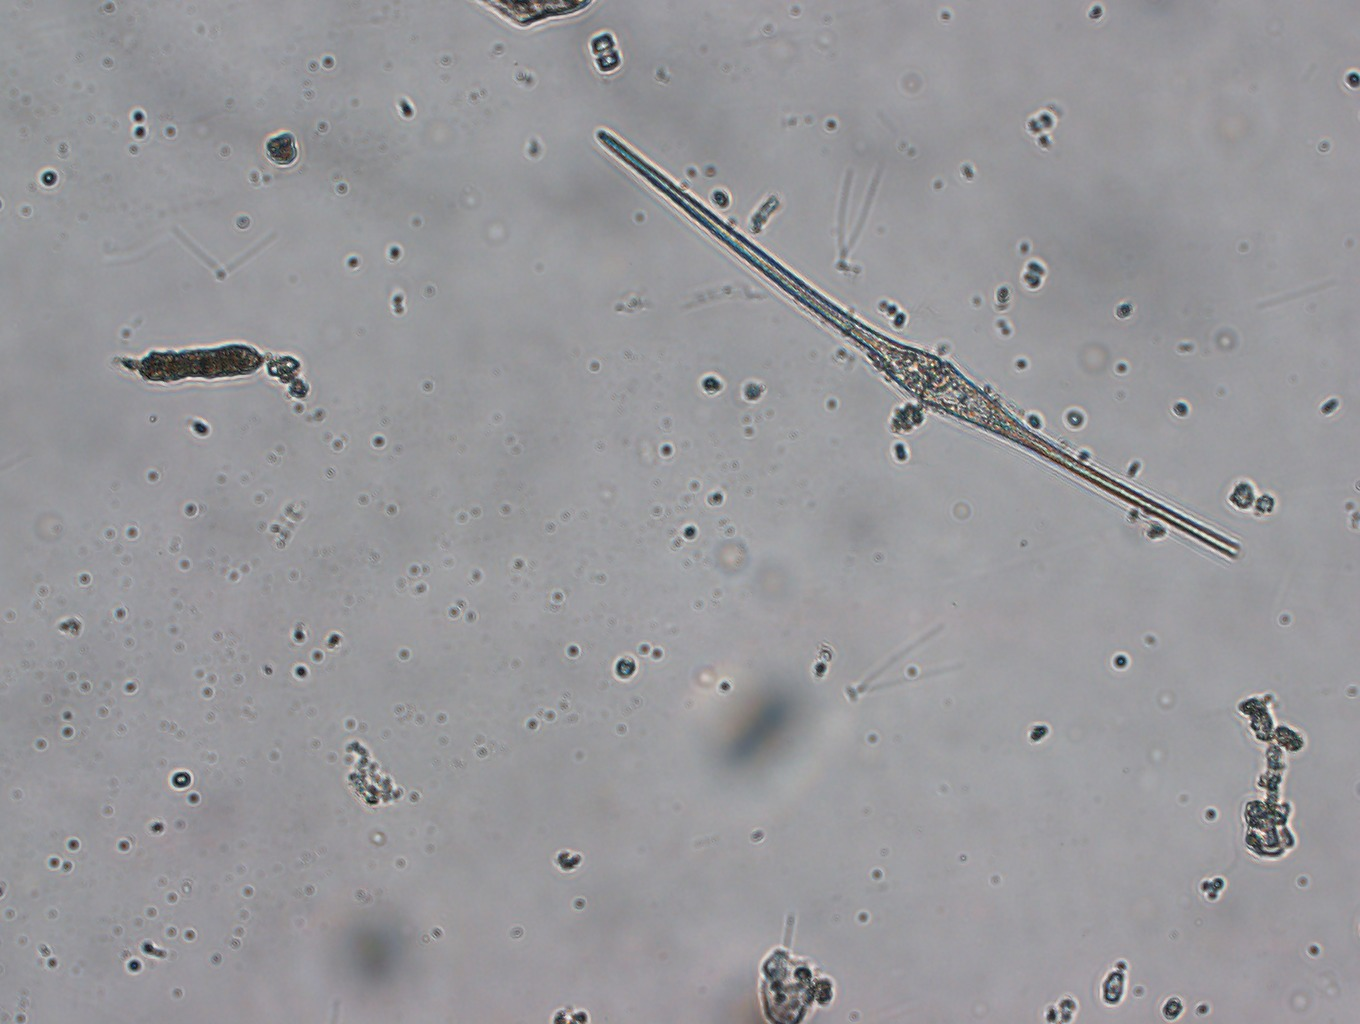ceratium fusus: (586, 127, 1260, 584)
